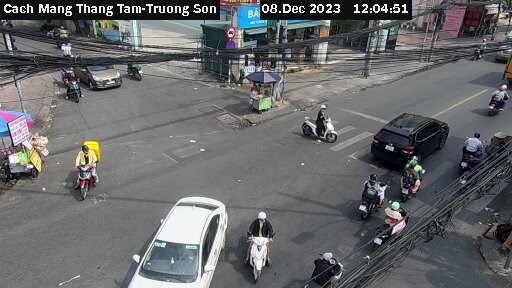car: (129, 192, 232, 288), (369, 108, 451, 165)
motorbike: (235, 213, 280, 278), (61, 142, 117, 193), (298, 103, 347, 148), (369, 202, 416, 248), (304, 246, 351, 288), (391, 158, 430, 204), (351, 173, 388, 218), (449, 130, 484, 170), (118, 54, 155, 82), (56, 72, 88, 102), (481, 84, 510, 117)
